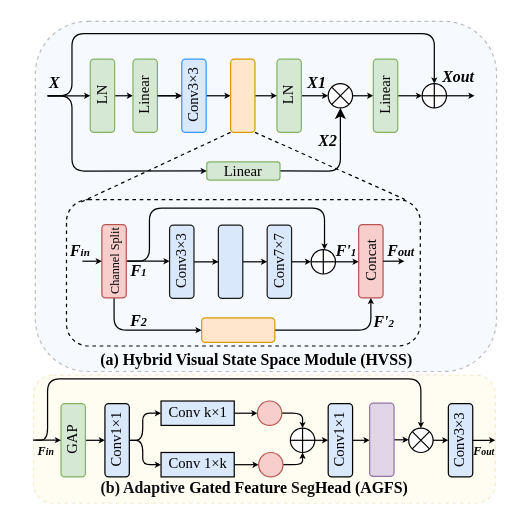
Image size: 528x527. Some labels were removed from this diagram. The centre of each missing label's shape, as x and y in pixels:
"Conv5×5" goes at [230,261].
"HSS2D" goes at [242,95].
"Sigmod" goes at [381,439].
"SS2D" goes at [237,329].
"W 1" goes at [269,412].
"W 2" goes at [270,464].
